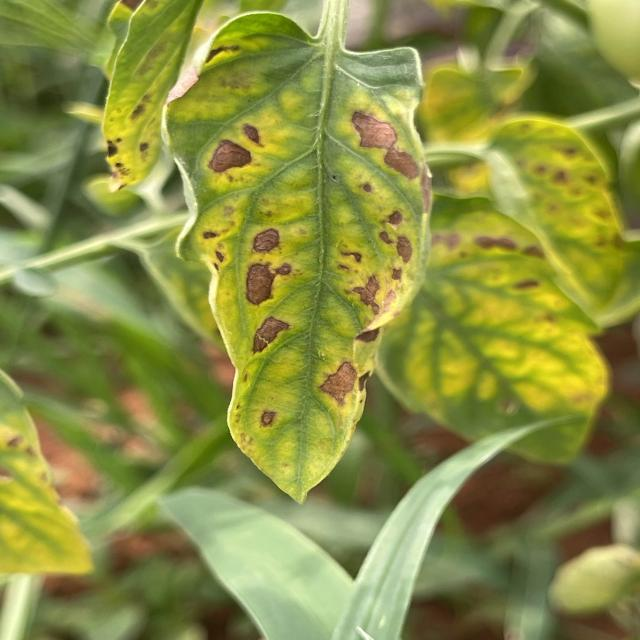tomato_early blight: (162, 8, 432, 501), (377, 226, 617, 477), (485, 116, 639, 327), (85, 0, 212, 196), (0, 365, 93, 575)
